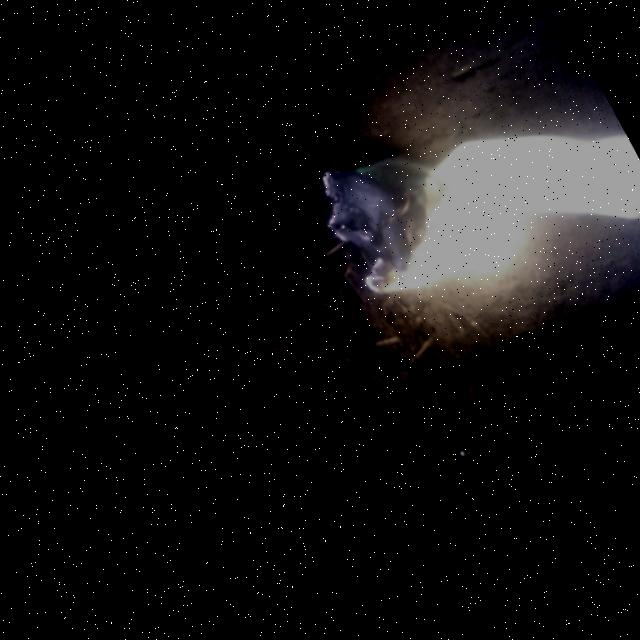Fire: (293, 36, 640, 373)
